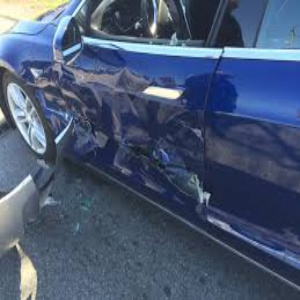door: (71, 62, 251, 217)
